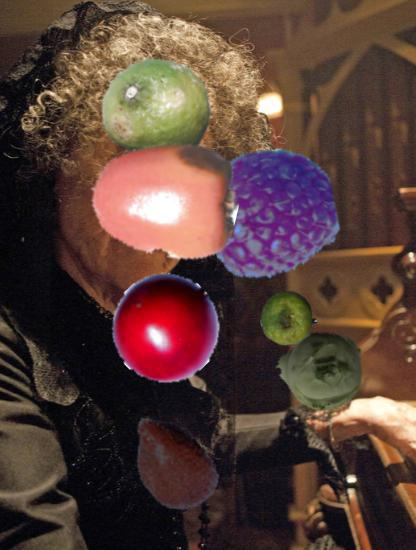Kaki: (91, 123, 240, 272)
Kohlrabi: (275, 327, 365, 417)
Limes: (100, 57, 212, 169), (260, 290, 316, 346)
Raspberry: (209, 148, 339, 278)
Salak: (116, 409, 225, 518)
Tamarillo: (111, 274, 220, 383)
